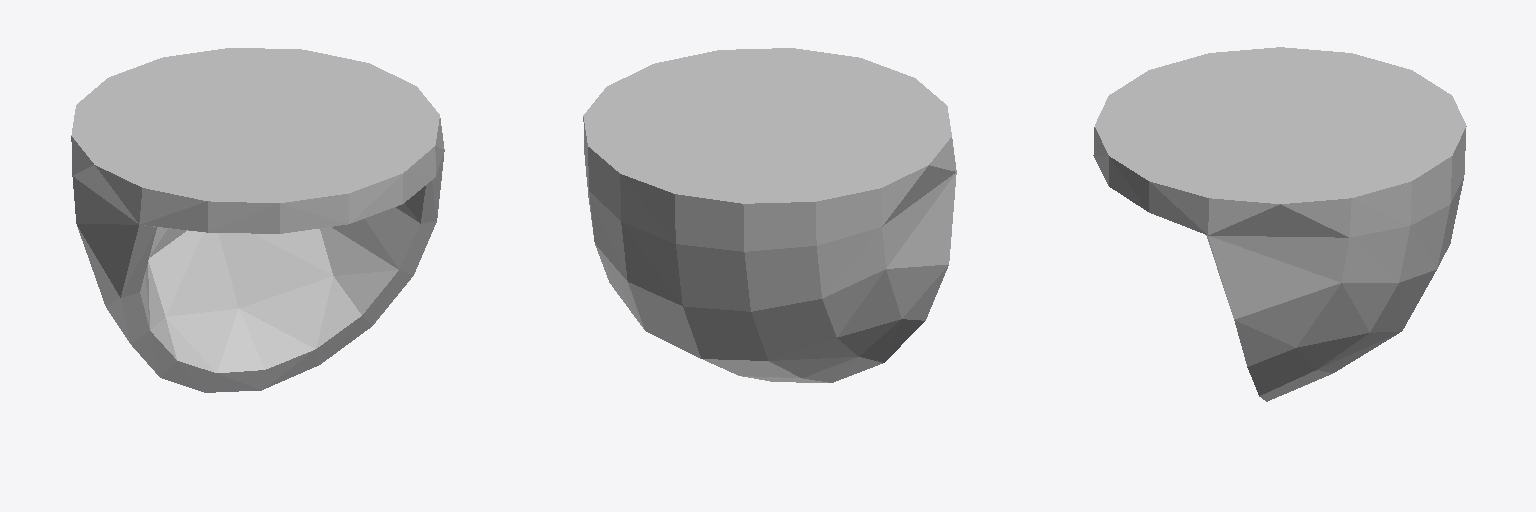
Rendered from rotatingLightCollider.obj.
3 views of the same model, side by side, from view 1: azimuth 30°, elevation 25°; view 2: azimuth 150°, elevation 25°; view 3: azimuth 270°, elevation 25° (orthographic).
Parts seen in each view (by area): view 1: Cube.004_Cube.003; view 2: Cube.004_Cube.003; view 3: Cube.004_Cube.003.
Boxes of the visible parts, x1,y1,x2,y2 form: Cube.004_Cube.003: [71, 48, 444, 392]; Cube.004_Cube.003: [583, 48, 956, 382]; Cube.004_Cube.003: [1093, 47, 1466, 401].
Bounding box in the file's own units: 0.1116 × 0.0863 × 0.1119.